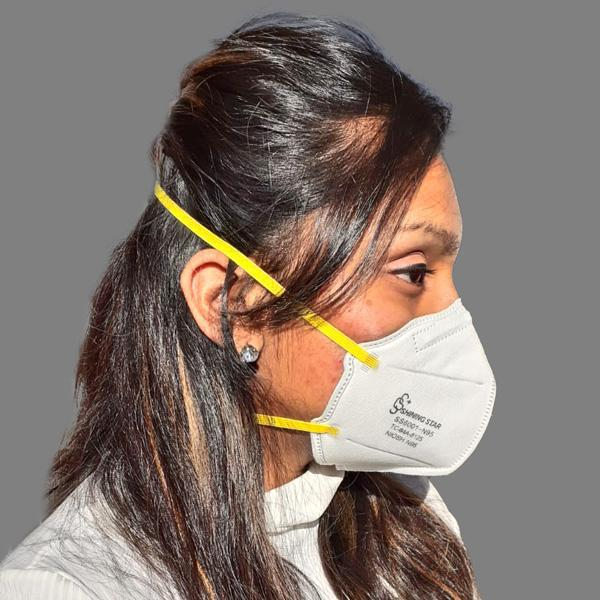OK: (304, 220, 488, 478)
